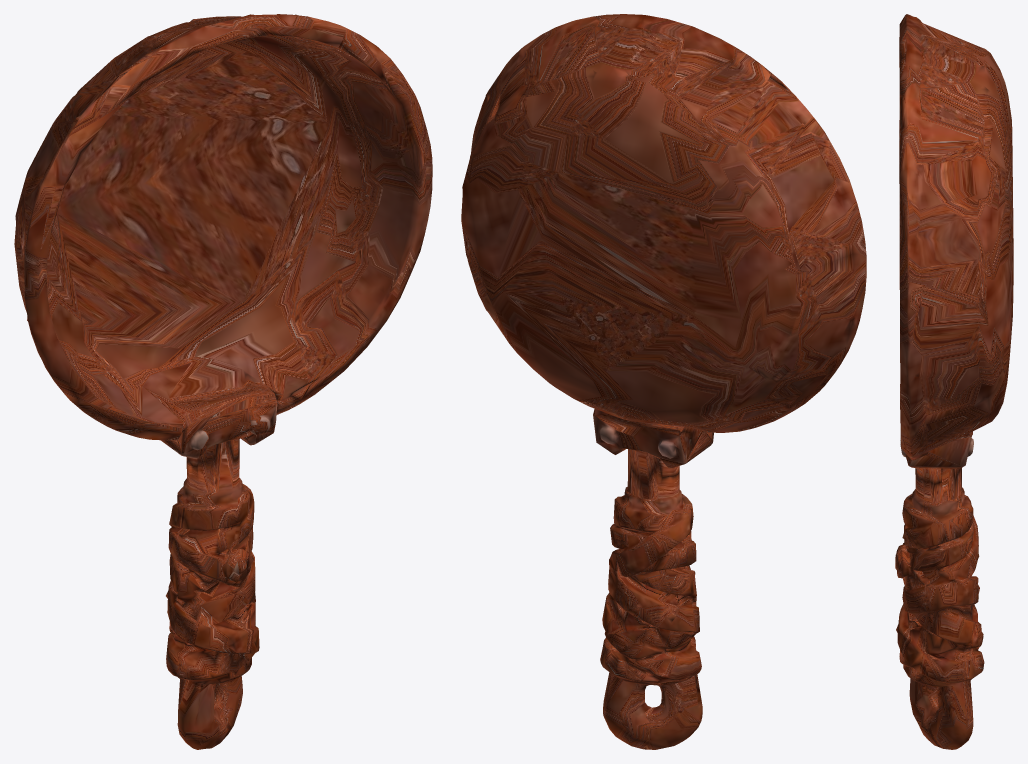
File: frying-pan.glb
3 renders of one model, left to right at view 1: azimuth 30°, elevation 25°; view 2: azimuth 150°, elevation 25°; view 3: azimuth 270°, elevation 25°, orthographic. The views are drawn at different scales.
Visible parts, largest first — view 1: Mesh_0; view 2: Mesh_0; view 3: Mesh_0.
Boxes of the visible parts, x1,y1,x2,y2 form: Mesh_0: [14, 14, 432, 749]; Mesh_0: [461, 14, 866, 749]; Mesh_0: [895, 14, 1013, 749].
Size of the model in its own units: 1.1 by 1.9 by 0.288.
1 material, 1 textured.
